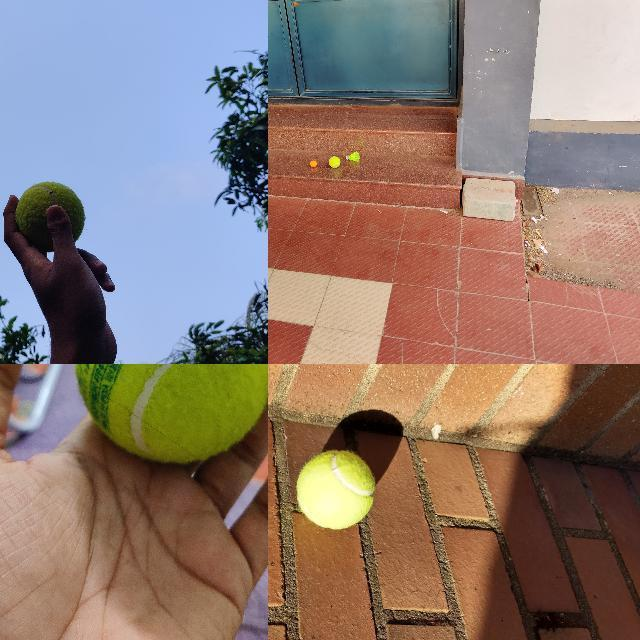tennis-ball: (71, 364, 267, 465), (296, 449, 376, 530), (15, 181, 86, 253), (329, 156, 340, 168)
